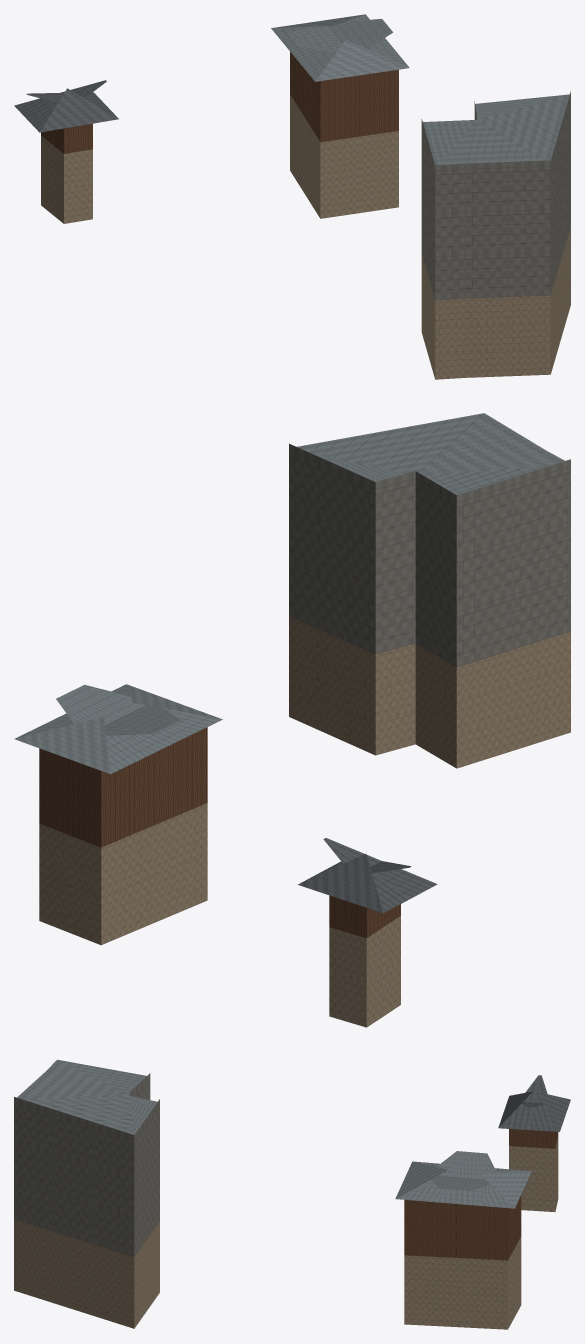
Rendered from bld_c32_-40_445.gltf.
3 views of the same model, one above another, from view 1: azimuth 30°, elevation 25°; view 2: azimuth 150°, elevation 25°; view 3: azimuth 270°, elevation 25° (orthographic). The views are drawn at different scales.
Parts seen in each view (by area): view 1: bld_c32_-40_445; view 2: bld_c32_-40_445; view 3: bld_c32_-40_445.
Part boxes in pixels (<box>): bld_c32_-40_445: <box>14,14,570,379</box>; bld_c32_-40_445: <box>14,413,570,1027</box>; bld_c32_-40_445: <box>14,1059,570,1329</box>.
Size of the model in its own units: 22.15 by 14.18 by 35.89.
Materials: 6 (6 with a texture image).
